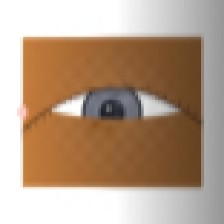pinguecula_lesion: (33, 101, 73, 133)
